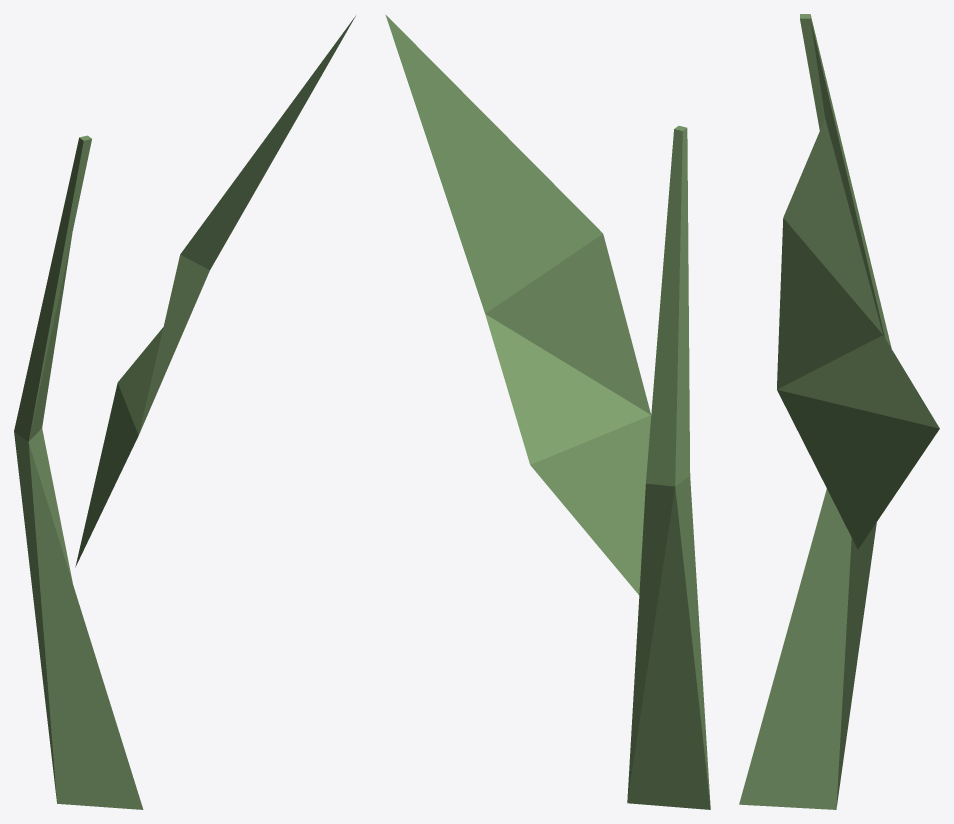
Rendered from Wheat_1.fbx.
The picture shows the model from 3 angles, left to right: view 1: azimuth 30°, elevation 25°; view 2: azimuth 150°, elevation 25°; view 3: azimuth 270°, elevation 25°; orthographic projection. The views are drawn at different scales.
Visible parts, largest first — view 1: Wheat_1; view 2: Wheat_1; view 3: Wheat_1.
Boxes of the visible parts, bbox=[...] form: Wheat_1: bbox=[14, 16, 355, 809]; Wheat_1: bbox=[385, 14, 710, 809]; Wheat_1: bbox=[739, 14, 939, 809].
Bounding box in the file's own units: 11.35 × 24.52 × 5.38.
